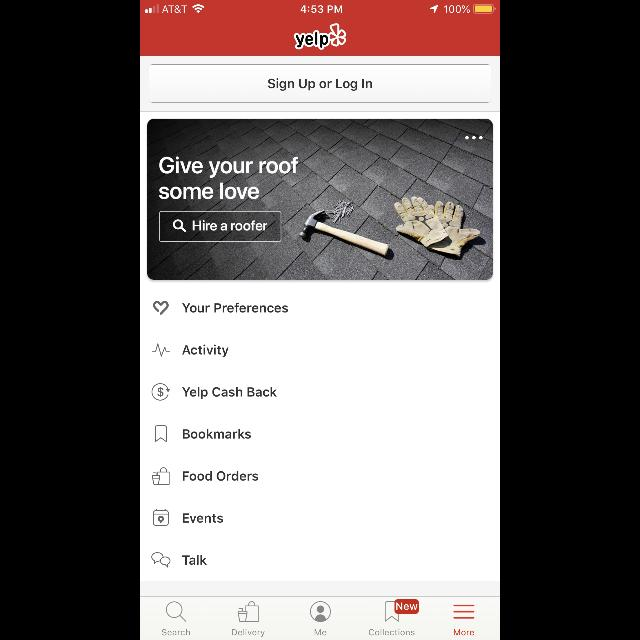icon: (385, 600, 419, 622), (238, 602, 260, 622), (310, 602, 332, 622), (166, 602, 187, 622), (151, 552, 171, 568), (454, 604, 474, 620), (152, 384, 170, 401), (153, 468, 170, 484), (153, 509, 169, 526), (152, 343, 170, 357), (153, 301, 169, 315), (155, 426, 167, 442), (174, 220, 186, 232)
image: (148, 118, 492, 280), (294, 24, 346, 51)
input: (159, 212, 281, 242)
pageindicator: (466, 136, 482, 140)
text: (160, 156, 298, 200), (182, 387, 278, 399), (182, 303, 288, 313), (184, 471, 258, 481), (183, 429, 251, 439), (183, 344, 229, 358), (183, 513, 223, 523), (369, 628, 415, 636), (232, 629, 264, 637), (183, 555, 207, 565), (162, 628, 190, 636), (454, 629, 474, 635), (314, 629, 326, 635)
textbutton: (149, 65, 491, 103)
uppertaskbar: (140, 0, 500, 14)
